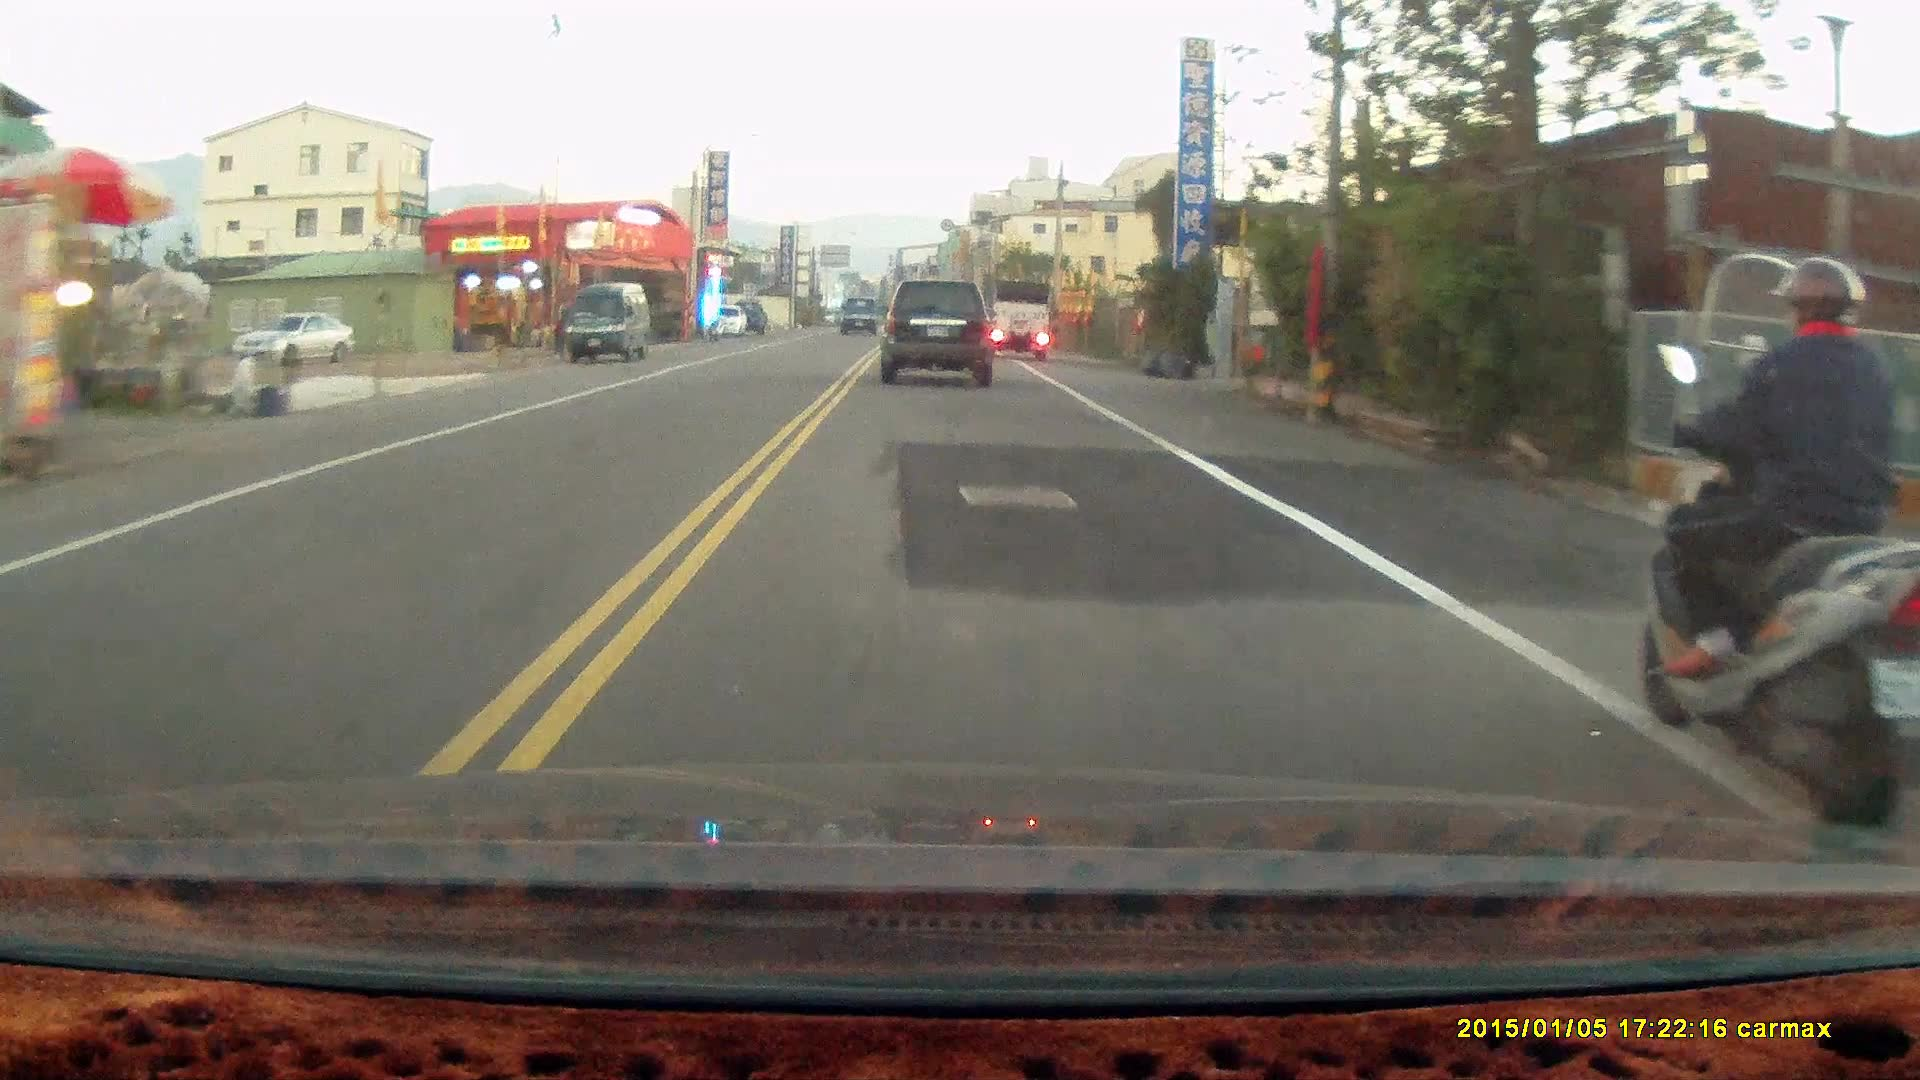rider: (1633, 252, 1919, 826)
vehicle: (880, 278, 1001, 387), (565, 283, 651, 363), (231, 316, 355, 367), (988, 274, 1055, 360)
